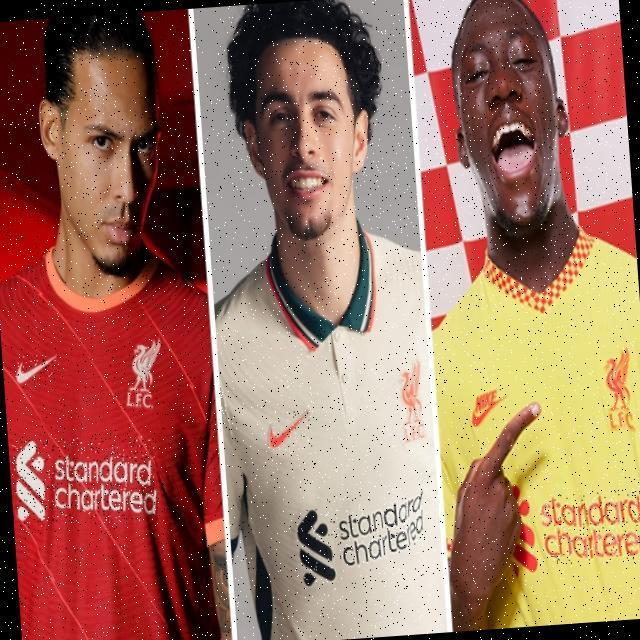Nike: (265, 409, 312, 451), (469, 388, 510, 427), (14, 353, 59, 384)
Standard Chartered: (12, 432, 159, 530), (295, 489, 429, 587), (539, 487, 640, 566)
